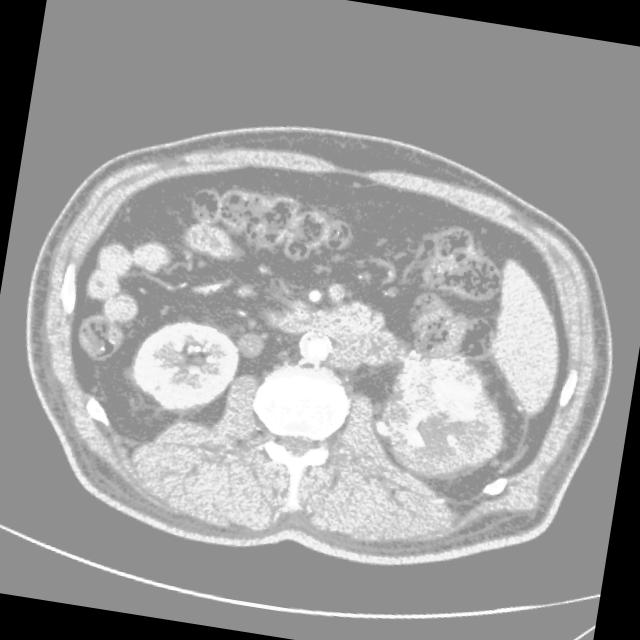TUMOR: (65, 302, 528, 500)
